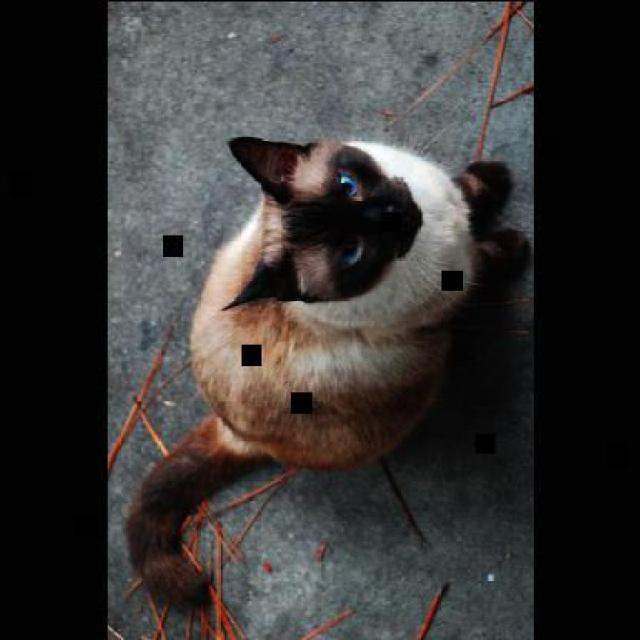unauthorized: (123, 134, 529, 609)
